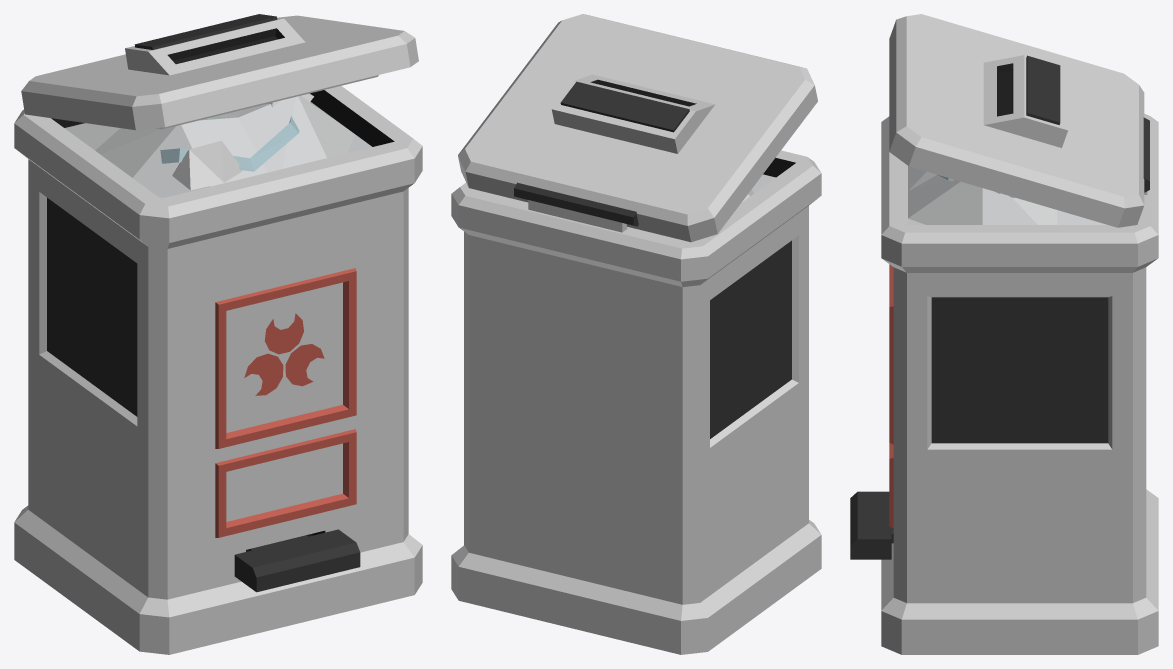
The model's file is waste-bin-sharps-bca988.glb.
3 views of the same model, side by side, from view 1: azimuth 30°, elevation 25°; view 2: azimuth 150°, elevation 25°; view 3: azimuth 270°, elevation 25° (orthographic). The views are drawn at different scales.
Visible parts, largest first — view 1: bin-body, lid-shell, waste-load, pedal-tread; view 2: bin-body, lid-shell; view 3: bin-body, lid-shell, waste-load, pedal-tread.
Part boxes in pixels (x1,y1,x2,y2): bin-body: (14,86,422,654); lid-shell: (21,14,418,130); waste-load: (64,93,371,198); pedal-tread: (234,529,360,592); bin-body: (451,150,821,654); lid-shell: (458,14,817,242); bin-body: (881,113,1158,654); lid-shell: (889,14,1144,227); waste-load: (908,166,1106,224); pedal-tread: (850,491,893,559).
Bounding box in the file's own units: 0.3 × 0.5573 × 0.3.
